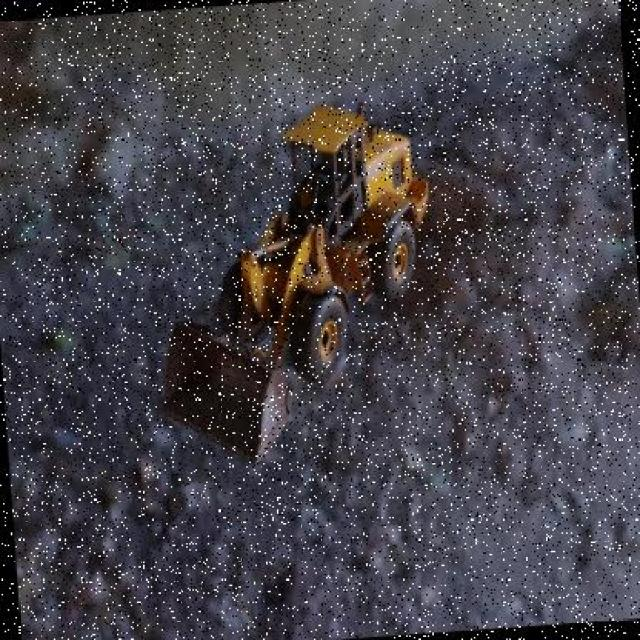buldozerpayloadergrader: (144, 96, 450, 473)
